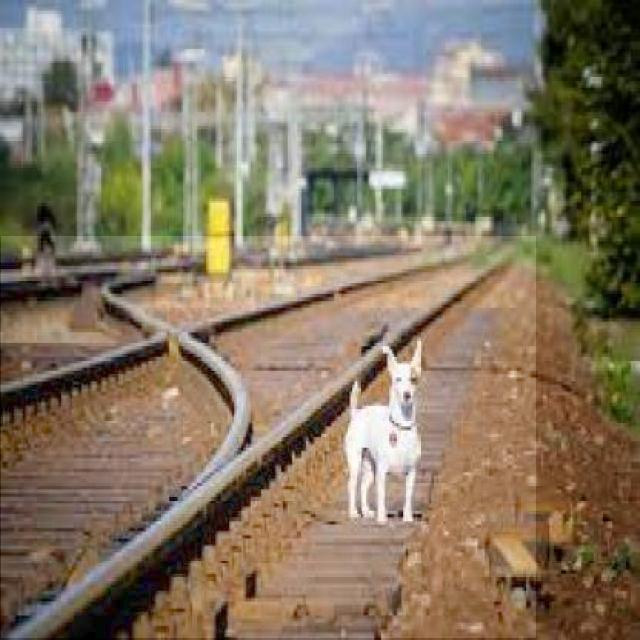rail: (2, 237, 537, 639)
